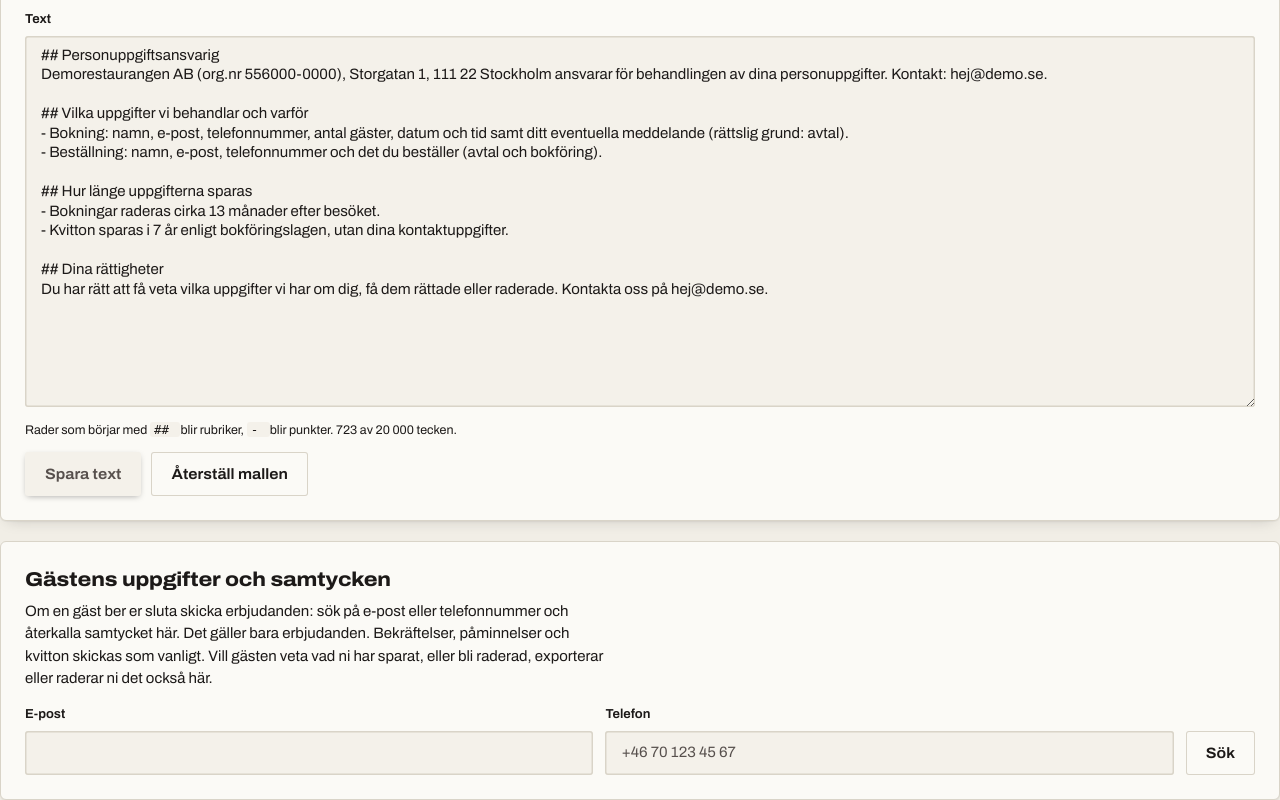
PrivacyCard › looks up a guest and withdraws one channel without touching the other
The image size is (1280, 800).
(page scrolled)
Type "anna@example.se" into the field labelled "E-post" at (309, 752), box [25,730,593,774]
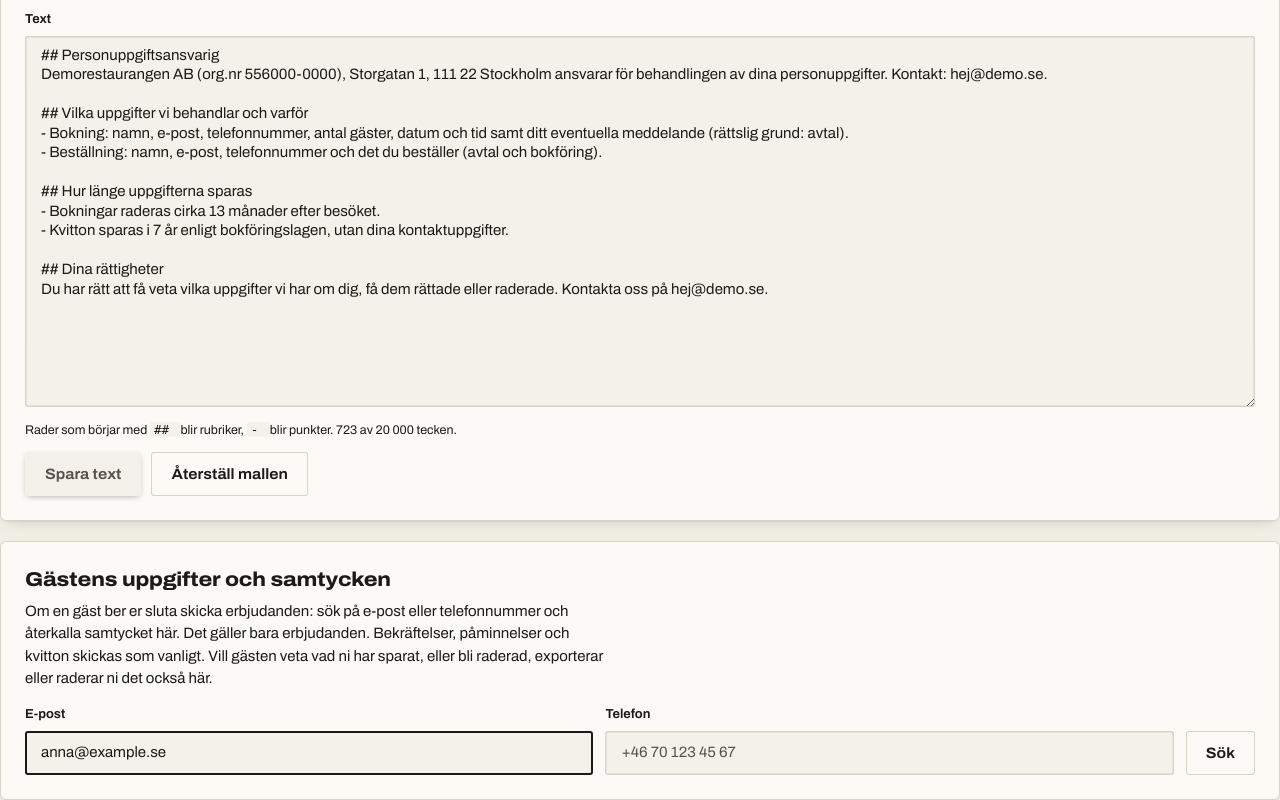
Type "0701234567" into the field labelled "Telefon" at (890, 752), box [605,730,1174,774]
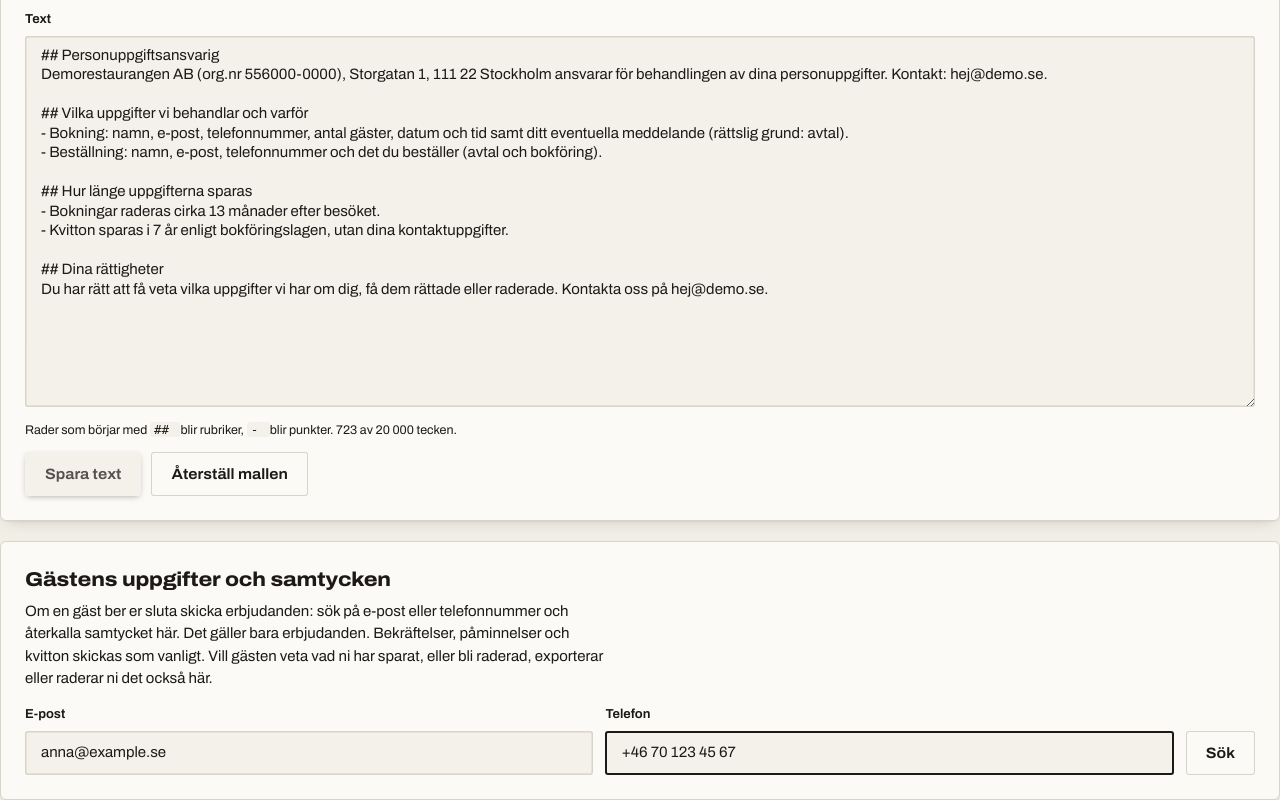
Click the button "Sök" at (1220, 752), box [1186,730,1255,774]
(page scrolled)
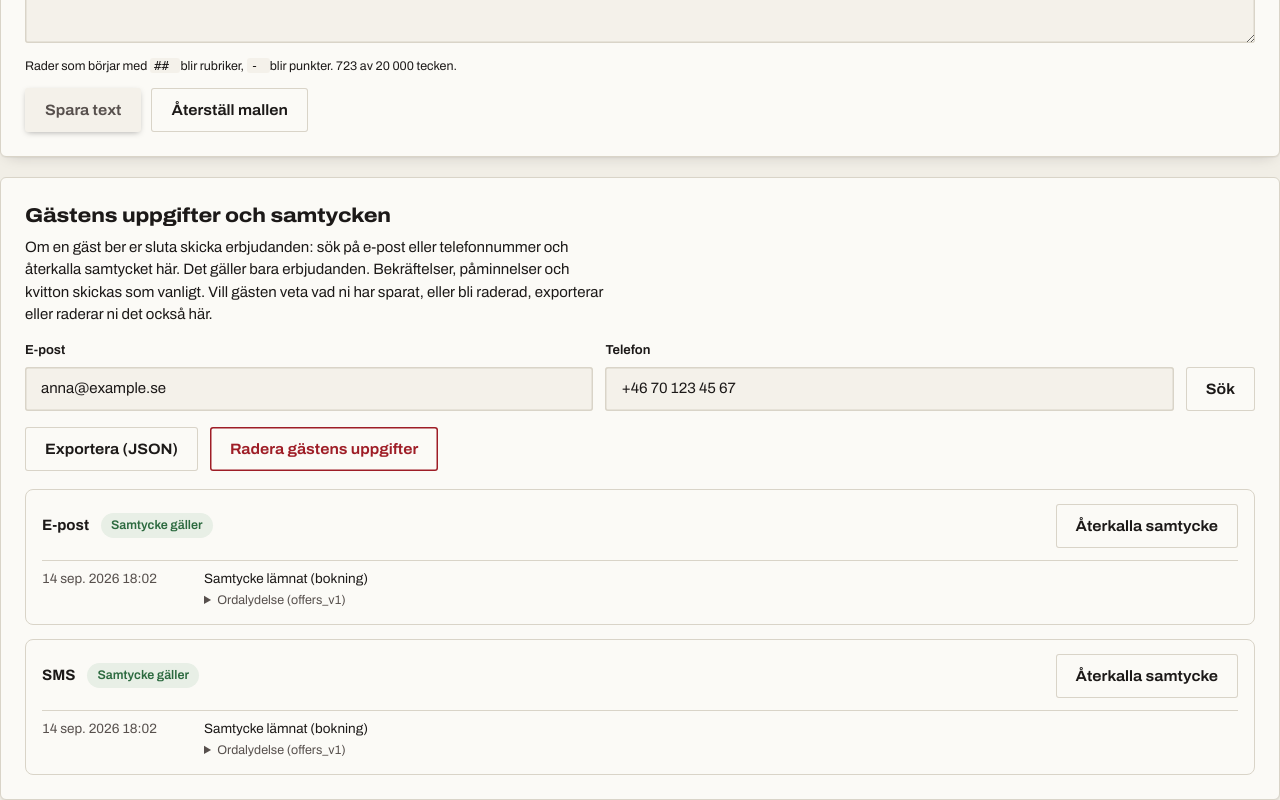
Check: the 1st text "Samtycke gäller" is shown, box [101,513,212,538]
Check: the 1st text "Samtycke lämnat (bokning)" is shown, box [204,570,368,586]
Click the 1st button "Återkalla samtycke" at (1147, 526), box [1056,504,1238,548]
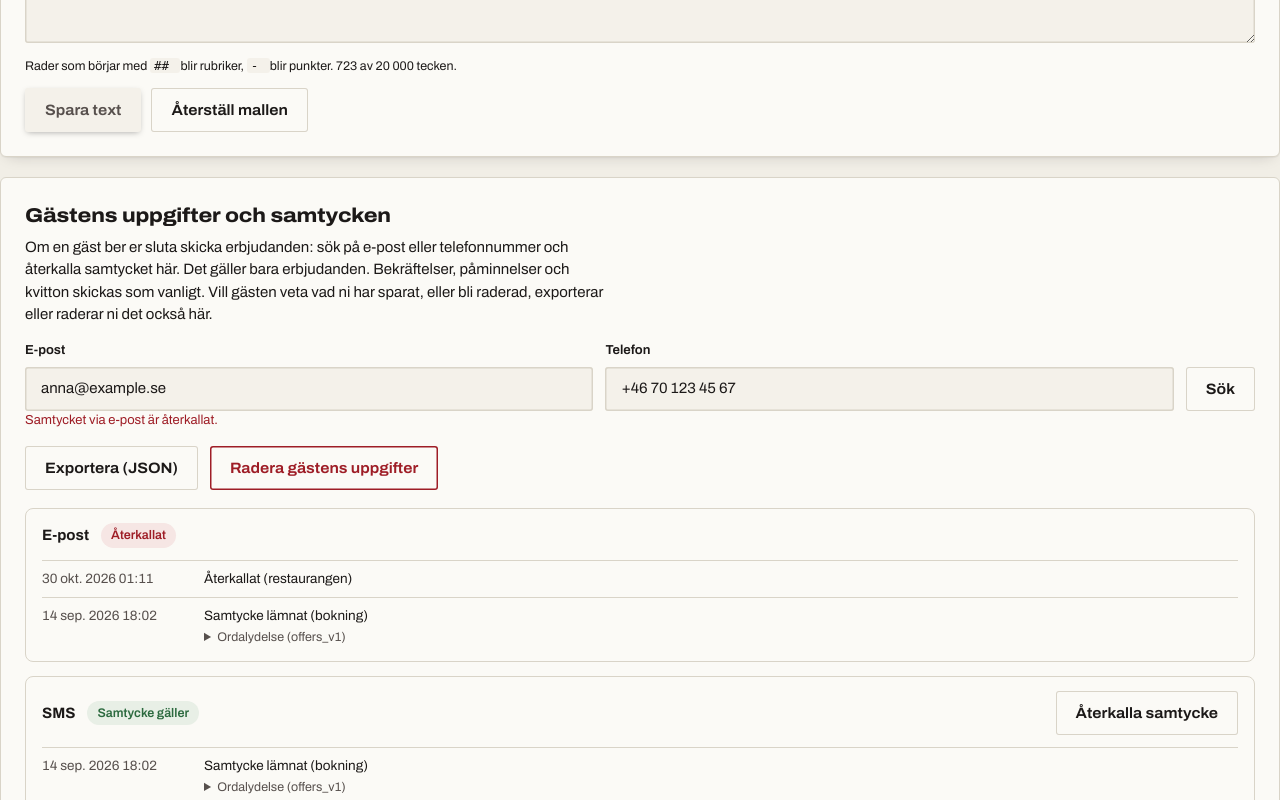
Check: the text "Samtycke gäller" is shown, box [88,701,199,726]
Check: the text "Samtycket via e-post är återkallat." is shown, box [25,412,218,426]
Check: the text "Återkallat" is shown, box [101,523,176,548]
